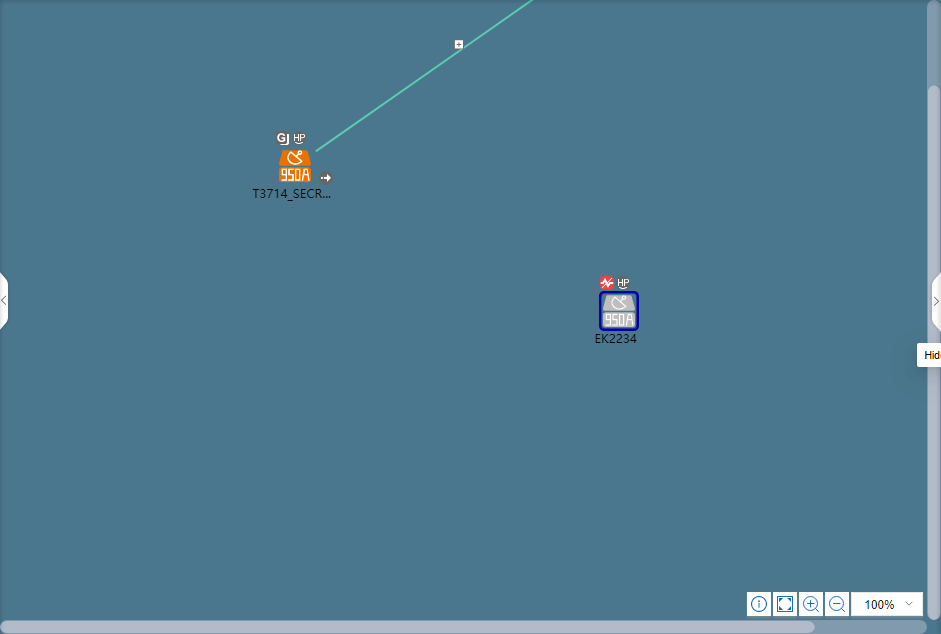Link_Blue: (315, 0, 535, 153)
RTN_Gray: (600, 293, 637, 330)
RTN_Orange: (279, 150, 310, 182)
